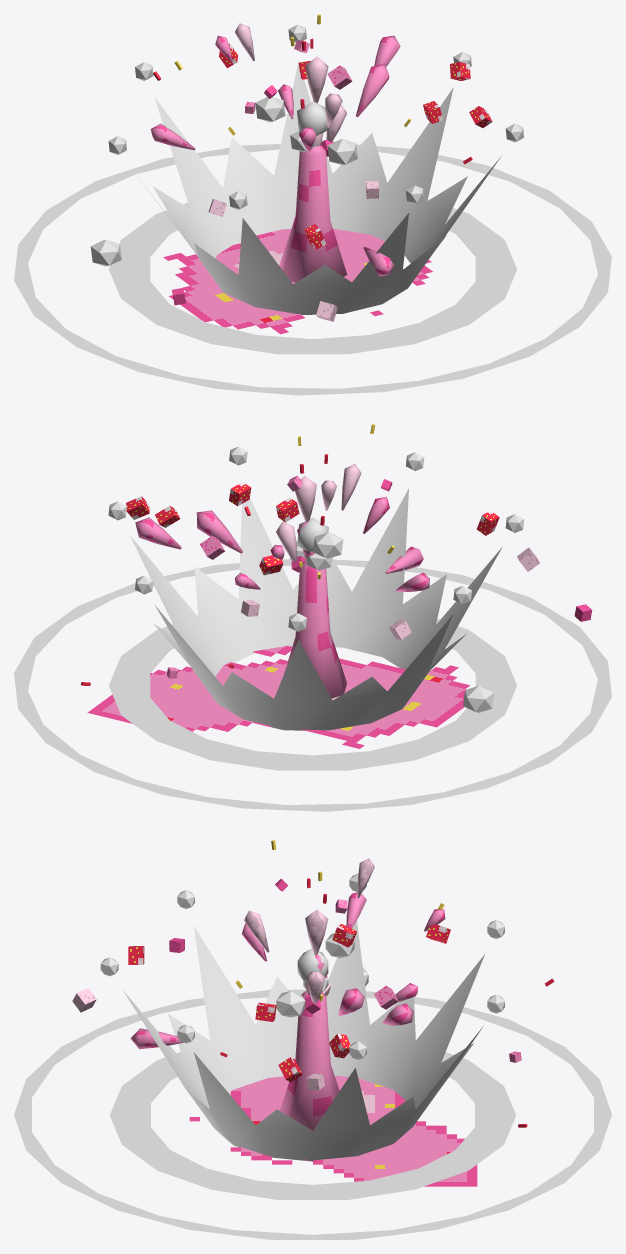
Rendered from Strawberry Splash Burst.fbx.
3 renders of one model, top to bottom at view 1: azimuth 30°, elevation 25°; view 2: azimuth 150°, elevation 25°; view 3: azimuth 270°, elevation 25°, orthographic.
Visible parts, largest first — view 1: Strawberry Splash Burst crown, Strawberry Splash Burst ring, Strawberry Splash Burst ring outer, Strawberry Splash Burst decal, Strawberry Splash Burst jet, Strawberry Splash Burst drop 7, Strawberry Splash Burst jet ball, Strawberry Splash Burst drop 6, Strawberry Splash Burst blob 0, Strawberry Splash Burst blob 2, Strawberry Splash Burst blob 3, Strawberry Splash Burst drop 13 (+1 smaller); view 2: Strawberry Splash Burst crown, Strawberry Splash Burst ring, Strawberry Splash Burst decal, Strawberry Splash Burst ring outer, Strawberry Splash Burst jet, Strawberry Splash Burst drop 7, Strawberry Splash Burst drop 5, Strawberry Splash Burst blob 0, Strawberry Splash Burst jet ball, Strawberry Splash Burst blob 3, Strawberry Splash Burst drop 6, Strawberry Splash Burst drop 10 (+2 smaller); view 3: Strawberry Splash Burst crown, Strawberry Splash Burst ring, Strawberry Splash Burst ring outer, Strawberry Splash Burst decal, Strawberry Splash Burst jet, Strawberry Splash Burst drop 6, Strawberry Splash Burst jet ball, Strawberry Splash Burst blob 2, Strawberry Splash Burst drop 10.
Boxes of the visible parts, x1,y1,x2,y2 form: Strawberry Splash Burst crown: [138, 61, 501, 314]; Strawberry Splash Burst ring: [108, 199, 517, 354]; Strawberry Splash Burst ring outer: [14, 144, 611, 395]; Strawberry Splash Burst decal: [163, 228, 432, 334]; Strawberry Splash Burst jet: [279, 145, 347, 282]; Strawberry Splash Burst drop 7: [356, 63, 389, 117]; Strawberry Splash Burst jet ball: [297, 101, 328, 136]; Strawberry Splash Burst drop 6: [305, 56, 328, 103]; Strawberry Splash Burst blob 0: [90, 239, 121, 266]; Strawberry Splash Burst blob 2: [327, 139, 357, 165]; Strawberry Splash Burst blob 3: [255, 97, 285, 122]; Strawberry Splash Burst drop 13: [150, 123, 195, 150]; Strawberry Splash Burst crown: [130, 488, 502, 730]; Strawberry Splash Burst ring: [109, 615, 516, 770]; Strawberry Splash Burst decal: [87, 646, 469, 748]; Strawberry Splash Burst ring outer: [14, 559, 611, 811]; Strawberry Splash Burst jet: [284, 561, 347, 698]; Strawberry Splash Burst drop 7: [196, 510, 242, 553]; Strawberry Splash Burst drop 5: [135, 517, 181, 549]; Strawberry Splash Burst blob 0: [463, 686, 494, 712]; Strawberry Splash Burst jet ball: [297, 517, 328, 551]; Strawberry Splash Burst blob 3: [313, 532, 343, 558]; Strawberry Splash Burst drop 6: [295, 475, 316, 522]; Strawberry Splash Burst drop 10: [385, 546, 423, 573]; Strawberry Splash Burst crown: [123, 920, 484, 1161]; Strawberry Splash Burst ring: [109, 1052, 516, 1199]; Strawberry Splash Burst ring outer: [14, 989, 611, 1239]; Strawberry Splash Burst decal: [189, 1075, 477, 1186]; Strawberry Splash Burst jet: [279, 991, 339, 1130]; Strawberry Splash Burst drop 6: [305, 909, 328, 955]; Strawberry Splash Burst jet ball: [297, 948, 328, 982]; Strawberry Splash Burst blob 2: [276, 991, 305, 1017]; Strawberry Splash Burst drop 10: [130, 1028, 183, 1049].
Bounding box in the file's own units: 1.98 × 0.9536 × 2.
Materials: 11 (7 with a texture image).
